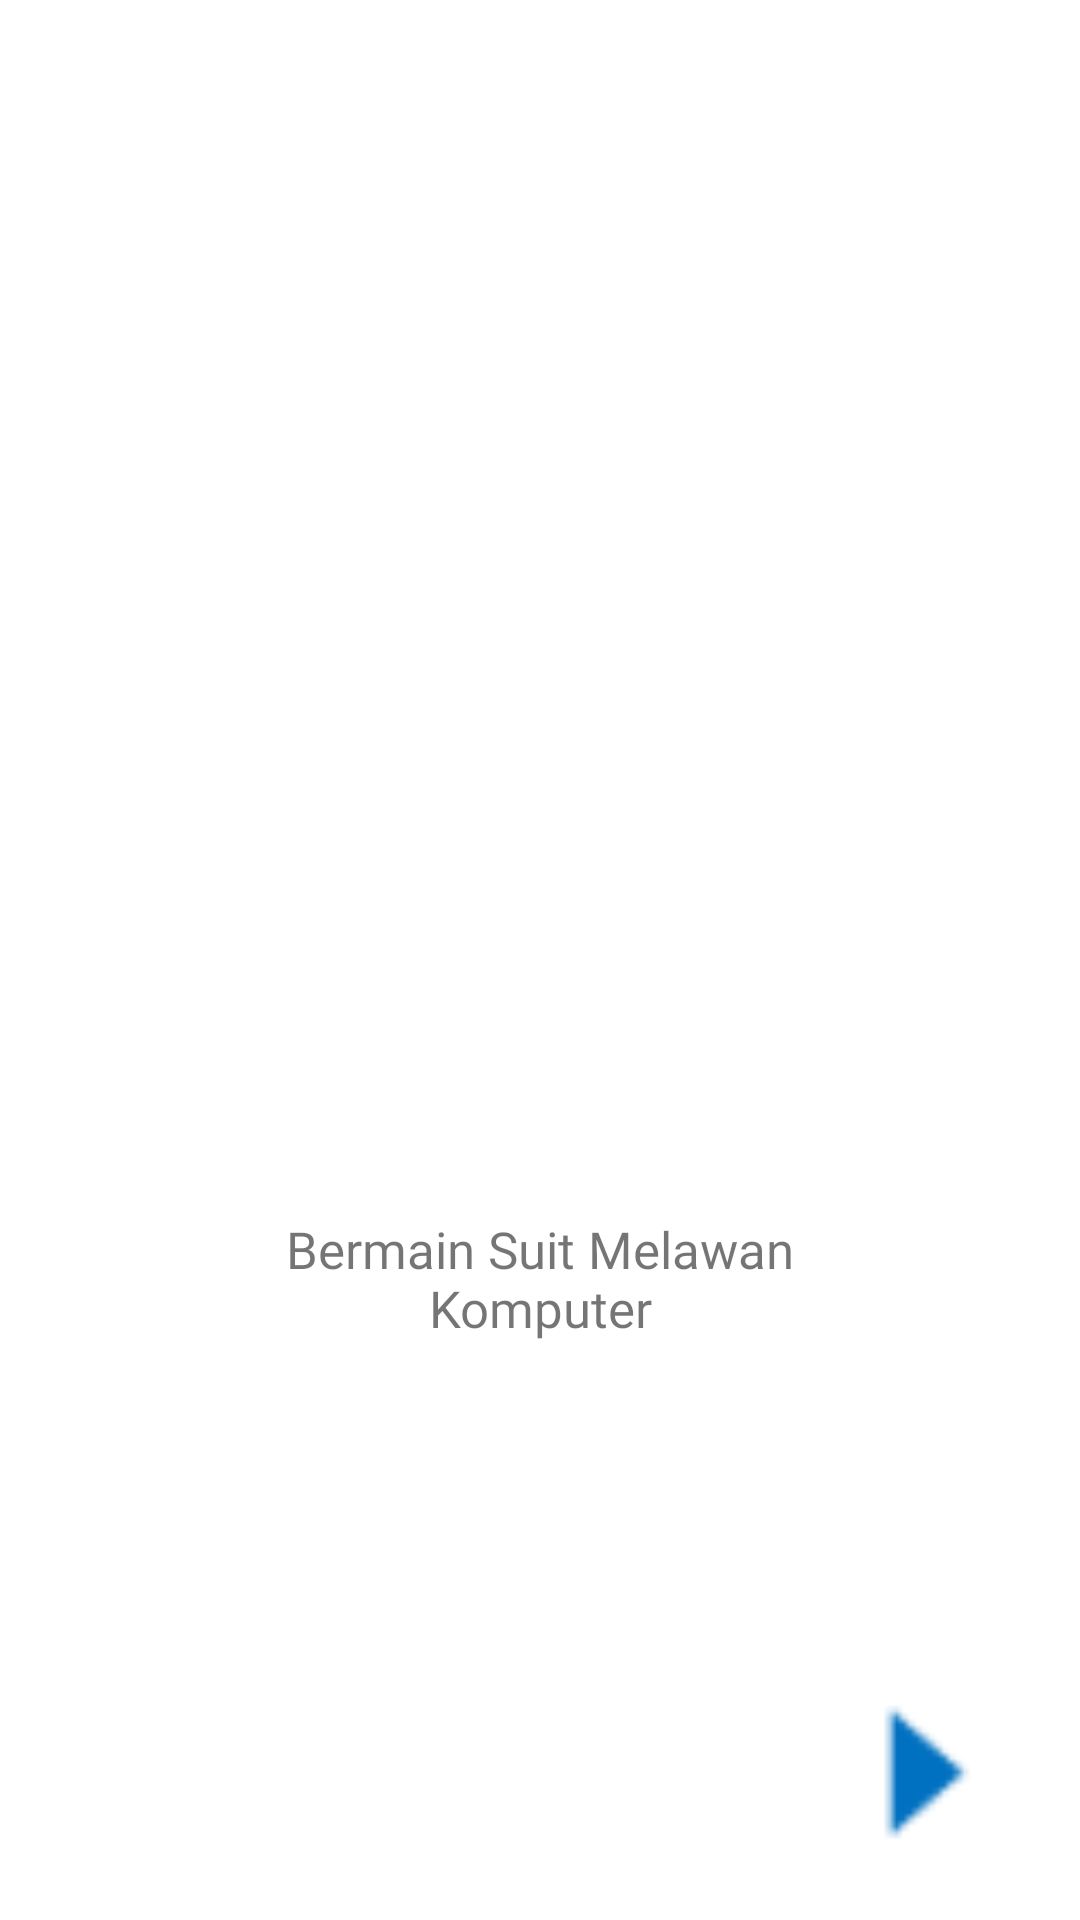

Locate icon controls on the screen. Image size 1080×1920, boxes as (x1, y1, x2, y2).
next: (885, 1708, 967, 1837)
